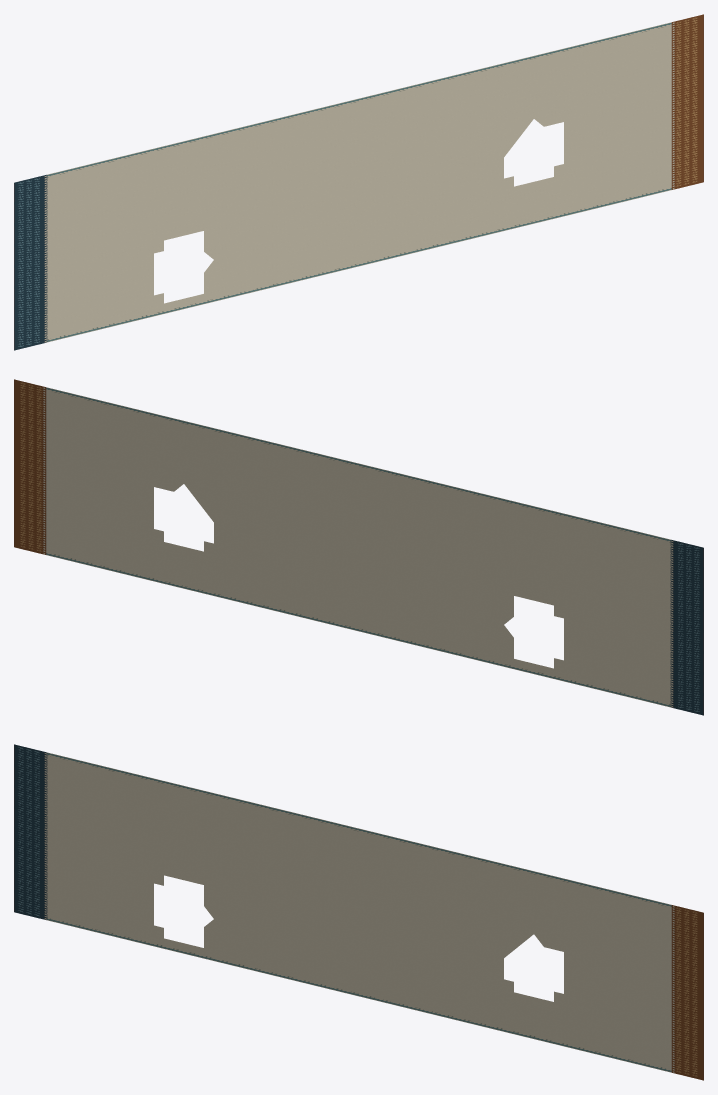
The model's file is cotton.obj.
The picture shows the model from 3 angles, top to bottom: view 1: azimuth 30°, elevation 25°; view 2: azimuth 150°, elevation 25°; view 3: azimuth 330°, elevation 25°; orthographic projection.
Size of the model in its own units: 0.86 by 0.2 by 0.
Materials: 1 (1 with a texture image).
